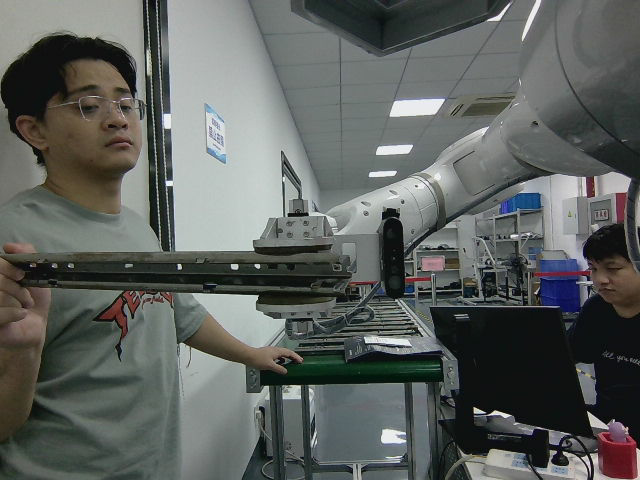left: (27, 249, 353, 296)
